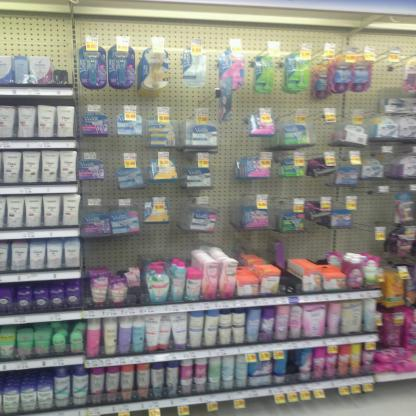Void: (290, 348, 300, 381)
